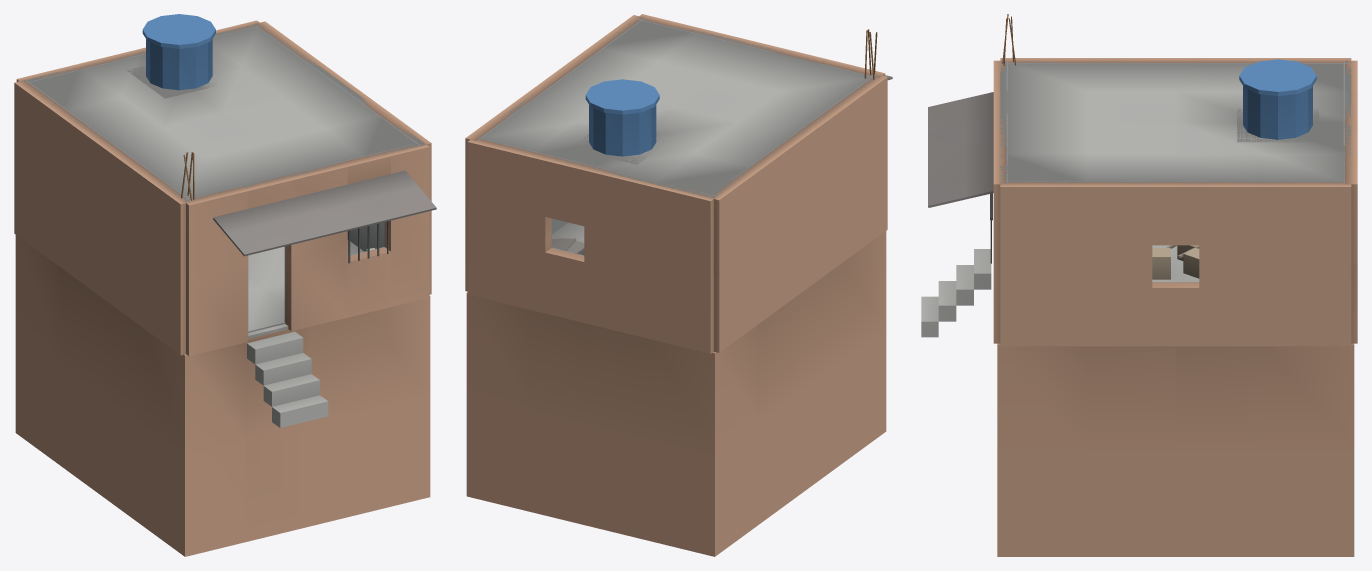
Rendered from barraco_1.glb.
The picture shows the model from 3 angles, left to right: view 1: azimuth 30°, elevation 25°; view 2: azimuth 150°, elevation 25°; view 3: azimuth 270°, elevation 25°; orthographic projection. The views are drawn at different scales.
Visible parts, largest first — view 1: longe, ext, detalhe, dentro; view 2: longe, ext, detalhe, dentro; view 3: longe, ext, detalhe, dentro.
Part boxes in pixels (x1=…): longe: x1=15, y1=22, x2=430, y2=556; ext: x1=14, y1=20, x2=431, y2=356; detalhe: x1=126, y1=14, x2=436, y2=427; dentro: x1=23, y1=24, x2=420, y2=338; longe: x1=466, y1=17, x2=886, y2=556; ext: x1=465, y1=14, x2=887, y2=353; detalhe: x1=574, y1=29, x2=892, y2=164; dentro: x1=476, y1=17, x2=878, y2=255; longe: x1=997, y1=60, x2=1354, y2=556; ext: x1=993, y1=58, x2=1357, y2=346; detalhe: x1=921, y1=14, x2=1318, y2=337; dentro: x1=1000, y1=60, x2=1351, y2=282.
Size of what is drawn, in the model's own units: 5.22 by 7.93 by 7.46.
